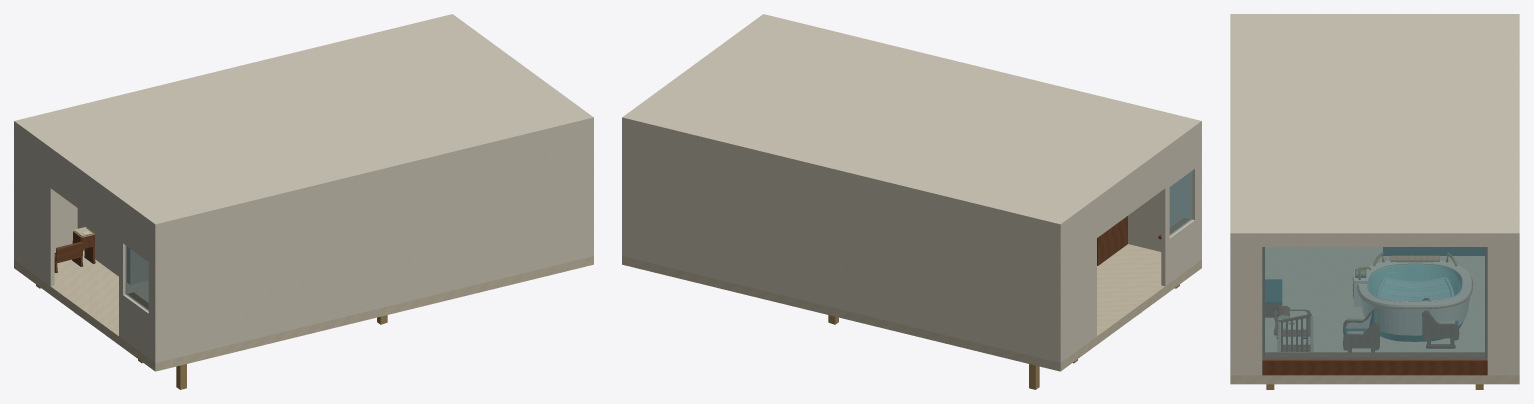
File: QuietGroveBank_457_r001.glb
3 views of the same model, side by side, from view 1: azimuth 30°, elevation 25°; view 2: azimuth 150°, elevation 25°; view 3: azimuth 270°, elevation 25° (orthographic). The views are drawn at different scales.
Visible parts, largest first — view 1: QG457_Ceiling, QG457_NorthSide, QG457_RoomFloor, QG457_EntryShoulderSouth, QG457_EntryHeader, QG457_StreetWindowLower, QG457_WashEntrySide, QG457_SouthSide, QG457_StreetWindowUpper, QG457_ScreenedStreetGlass, QGB457_CourtSouthPier; view 2: QG457_Ceiling, QG457_SouthSide, QG457_RoomFloor, QG457_EntryShoulderSouth, QG457_NorthSide, QG457_EntryHeader, QG457_StreetWindowLower, QG457_StreetWindowUpper, QG457_ScreenedStreetGlass, QG457_EntryPrivacyDogleg; view 3: QG457_Ceiling, QGB457_PrivateCourtGlass, QG457_RoomFloor, QG457_QG457_ReservedRestSupport_01__Hollow continuous basin , QGB457_CourtNorthPier, QGB457_CourtSouthPier, QGB457_CourtSill, QGB457_CourtHeader, QGB457_DeepReveal_0.34, QG457_QG457_ReservedRestSupport_01__Contoured broad immersed, QG457_PositiveWetPrivacyBlade, QG457_NorthSide (+7 smaller).
Boxes of the visible parts, x1,y1,x2,y2 form: QG457_Ceiling: (14,14,593,229); QG457_NorthSide: (153,123,593,362); QG457_RoomFloor: (14,250,593,371); QG457_EntryShoulderSouth: (16,128,54,286); QG457_EntryHeader: (49,153,119,238); QG457_StreetWindowLower: (119,292,152,360); QG457_WashEntrySide: (77,208,133,284); QG457_SouthSide: (14,127,77,260); QG457_StreetWindowUpper: (119,203,152,264); QG457_ScreenedStreetGlass: (125,245,148,310); QGB457_CourtSouthPier: (585,123,593,257); QG457_Ceiling: (622,14,1201,229); QG457_SouthSide: (622,123,1062,362); QG457_RoomFloor: (622,244,1201,371); QG457_EntryShoulderSouth: (1063,203,1096,360); QG457_NorthSide: (1128,127,1201,260); QG457_EntryHeader: (1096,154,1165,238); QG457_StreetWindowLower: (1161,217,1199,286); QG457_StreetWindowUpper: (1163,128,1199,190); QG457_ScreenedStreetGlass: (1169,171,1192,235); QG457_EntryPrivacyDogleg: (1097,216,1127,265); QG457_Ceiling: (1230,14,1519,238); QGB457_PrivateCourtGlass: (1262,247,1487,359); QG457_RoomFloor: (1230,247,1519,384); QG457_QG457_ReservedRestSupport_01__Hollow continuous basin : (1358,260,1471,341); QGB457_CourtNorthPier: (1487,239,1519,375); QGB457_CourtSouthPier: (1230,239,1262,375); QGB457_CourtSill: (1262,358,1487,375); QGB457_CourtHeader: (1262,239,1487,246); QGB457_DeepReveal_0.34: (1265,352,1484,357); QG457_QG457_ReservedRestSupport_01__Contoured broad immersed: (1380,277,1450,300); QG457_PositiveWetPrivacyBlade: (1383,247,1484,255); QG457_NorthSide: (1230,239,1234,375).
Size of the model in its own units: 12.9 by 5.31 by 7.2.
Materials: 67 (49 with a texture image).
